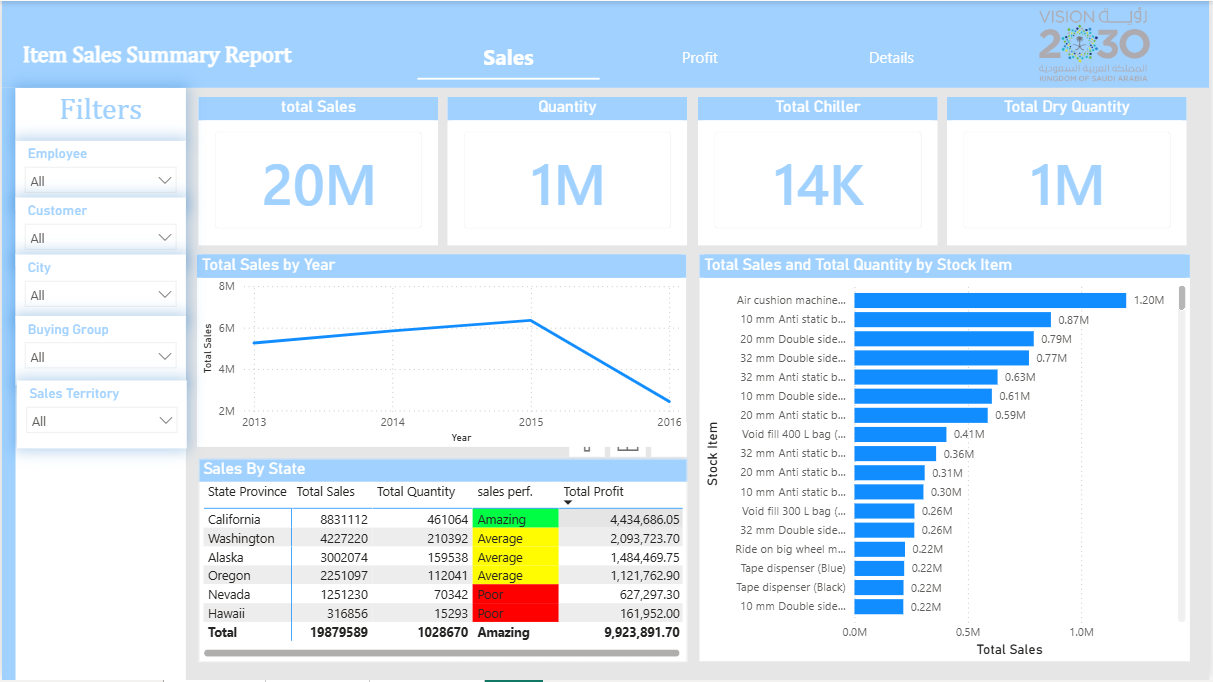

Layout of this report page (visuals, bound fields, positions):
{"tool":"powerbi","page":{"name":"Sales","canvas":[1280,720],"ordinal":0},"visuals":[{"type":"shape","box":[0,0,1281.1,92],"z":0},{"type":"shape","box":[0,92,15.1,628.9],"z":1000},{"type":"shape","box":[15.1,92,180.6,628.9],"z":2000},{"type":"textbox","box":[6.7,38.5,321.1,53.5],"z":3000},{"type":"image","box":[1036.9,6.7,242.5,78.6],"z":4000},{"type":"cardVisual","title":"total Sales","fields":{"Data":["Sum(FactSale.Total Excluding Tax)"]},"box":[207.9,102,254.2,157.2],"z":5000},{"type":"cardVisual","title":"Quantity","fields":{"Data":["Sum(FactSale.Quantity)"]},"box":[472.8,102,254.2,157.2],"z":6000},{"type":"cardVisual","title":"Total Chiller","fields":{"Data":["Sum(FactSale.Total Chiller Items)"]},"box":[737.6,102,254.2,157.2],"z":7000},{"type":"cardVisual","title":"Total Dry Quantity","fields":{"Data":["Sum(FactSale.Total Dry Items)"]},"box":[1002.4,102,254.2,157.2],"z":8000},{"type":"textbox","box":[15.1,92,180.6,55.2],"z":9000},{"type":"barChart","fields":{"Y":["Sum(FactSale.Total Excluding Tax)"],"Category":["DimStockItem.Stock Item"]},"box":[739.2,269.3,520.1,431.5],"z":10000},{"type":"pivotTable","title":"Sales By State","fields":{"Values":["Sum(FactSale.Total Excluding Tax)","Sum(FactSale.Quantity)","FactSale.sales perf.","Sum(FactSale.Profit)"],"Rows":["DimCity.State Province"]},"box":[209.1,485,518.5,215.8],"z":11000},{"type":"lineChart","fields":{"Category":["DimDate.Date.Variation.Date Hierarchy.Year","DimDate.Date.Variation.Date Hierarchy.Quarter","DimDate.Date.Variation.Date Hierarchy.Month","DimDate.Date.Variation.Date Hierarchy.Day"],"Y":["Sum(FactSale.Total Excluding Tax)"]},"box":[207.4,269.3,518.5,204],"z":12000},{"type":"slicer","fields":{"Values":["DimEmployee.Employee"]},"box":[15.1,147.2,180.6,73.6],"z":13000},{"type":"slicer","fields":{"Values":["DimCustomer.Customer"]},"box":[15.1,209.1,180.6,73.6],"z":14000},{"type":"slicer","fields":{"Values":["DimCity.City"]},"box":[15.1,269.3,180.6,73.6],"z":15000},{"type":"slicer","fields":{"Values":["DimCustomer.Buying Group"]},"box":[15.1,334.5,180.6,73.6],"z":16000},{"type":"slicer","fields":{"Values":["DimCity.Sales Territory"]},"box":[16,402,180,72],"z":17000},{"type":"pageNavigator","box":[440,34,600,50],"z":18000}]}

Visuals, with their boxes in screenshot pixels (x1, y1, x2, y2), scaled from the page's 1280x720 canvas onto the 1213x682 screenshot:
shape: select_region(0, 0, 1212, 87)
shape: select_region(0, 87, 14, 681)
shape: select_region(14, 87, 185, 681)
textbox: select_region(6, 36, 311, 87)
image: select_region(983, 6, 1212, 81)
"total Sales" cardVisual: select_region(197, 97, 438, 246)
"Quantity" cardVisual: select_region(448, 97, 689, 246)
"Total Chiller" cardVisual: select_region(699, 97, 940, 246)
"Total Dry Quantity" cardVisual: select_region(950, 97, 1191, 246)
textbox: select_region(14, 87, 185, 139)
barChart - Sum(FactSale.Total Excluding Tax) x DimStockItem.Stock Item: select_region(701, 255, 1193, 664)
"Sales By State" pivotTable: select_region(198, 459, 690, 664)
lineChart - DimDate.Date.Variation.Date Hierarchy.Year x DimDate.Date.Variation.Date Hierarchy.Quarter: select_region(197, 255, 688, 448)
slicer - DimEmployee.Employee: select_region(14, 139, 185, 209)
slicer - DimCustomer.Customer: select_region(14, 198, 185, 268)
slicer - DimCity.City: select_region(14, 255, 185, 325)
slicer - DimCustomer.Buying Group: select_region(14, 317, 185, 387)
slicer - DimCity.Sales Territory: select_region(15, 381, 186, 449)
pageNavigator: select_region(417, 32, 986, 80)
